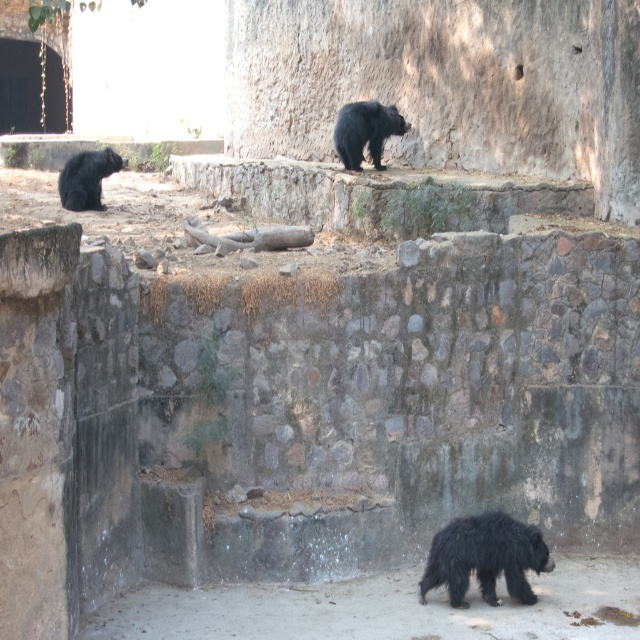Bear: (417, 508, 556, 609), (331, 100, 412, 170), (56, 146, 128, 212)
